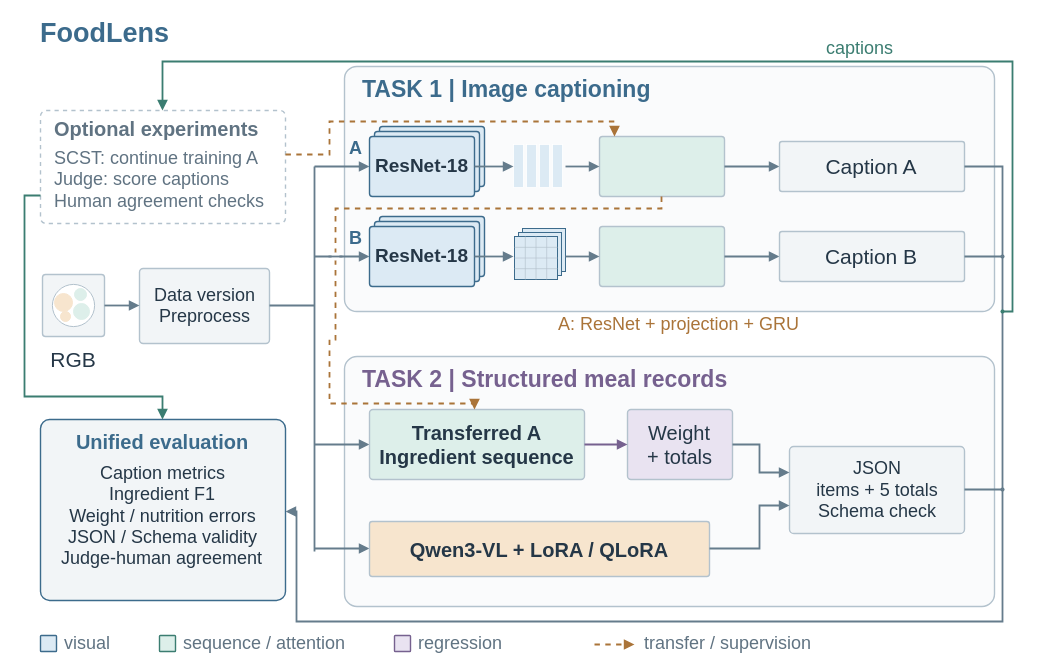
Image size: 1039x672. Some labels were removed from this diagram. The shapes that lost their labels are listed below. From the top down, each one's centre as x and y in pixels, then its label:
At point 661,166: "GRU".
At point 661,256: "Transformer".
